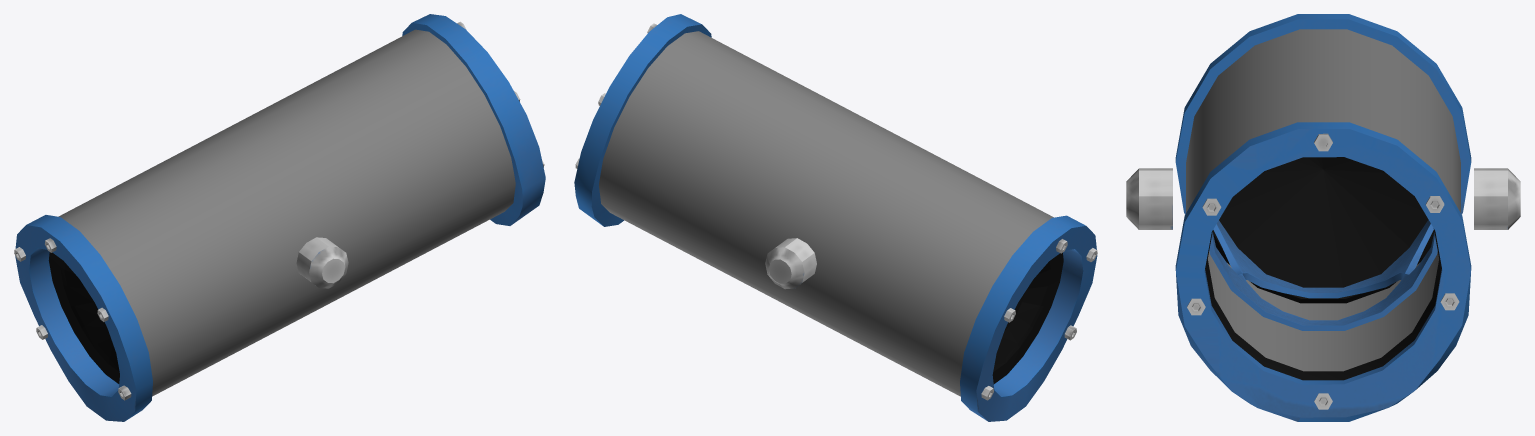
File: ball_shooter_launcher.dae
3 views of the same model, side by side, from view 1: azimuth 30°, elevation 25°; view 2: azimuth 150°, elevation 25°; view 3: azimuth 270°, elevation 25° (orthographic). The views are drawn at different scales.
Visible parts, largest first — view 1: Launcher; view 2: Launcher; view 3: Launcher.
Part boxes in pixels (x1,y1,x2,y2): Launcher: (14, 14, 545, 421); Launcher: (574, 14, 1097, 421); Launcher: (1126, 14, 1520, 421).
Size of the model in its own units: 197 by 107 by 123.
1 material, 1 textured.
